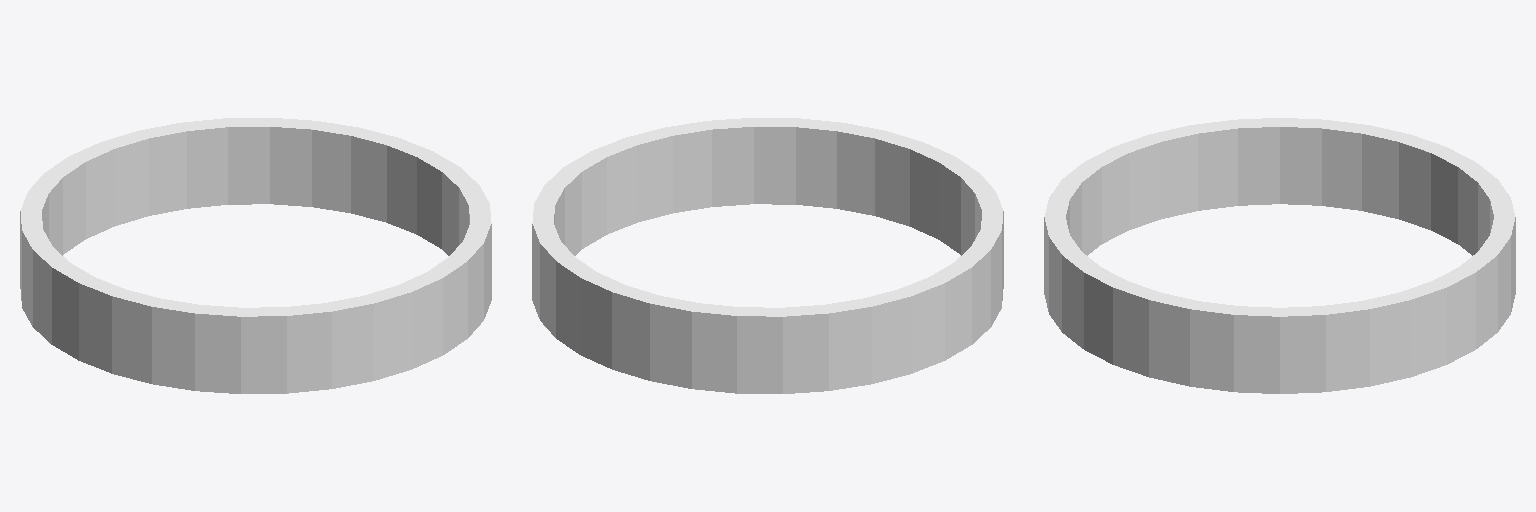
robot.urdf — circle_arena.urdf:
<?xml version="0.0" ?>
<robot name="circle_arena.urdf">
  <link concave="yes" name="baseLink">
    <inertial>
      <origin rpy="0 0 0" xyz="0 0 0"/>
       <mass value="1000"/>
       <inertia ixx="0" ixy="0" ixz="0" iyy="0" iyz="0" izz="0" />
    </inertial>
    <visual>
      <origin rpy="1.5707963 0 0" xyz="0 0 0"/>
      <geometry>
		    <mesh filename="circle_arena.obj" scale="1 1 1"/>
      </geometry>
		  <material name="white">
          <color rgba="1 1 1 1"/>
      </material>
    </visual>
    <collision concave="yes">
      <origin rpy="1.5707963 0 0" xyz="0 0 0"/>
      <geometry>
          <mesh filename="circle_arena.obj" scale="1 1 1"/>
      </geometry>
    </collision>
  </link>
</robot>

--- What the picture shows (computed from the rendered views, not written in the file) ---
3 views of the same robot in one strip: view 1: azimuth 30°, elevation 25°; view 2: azimuth 150°, elevation 25°; view 3: azimuth 270°, elevation 25° (orthographic).
Robot: circle_arena.urdf — 1 links, 0 joints (none); root link baseLink; default pose: every joint at zero.
Visible links, largest first — view 1: baseLink; view 2: baseLink; view 3: baseLink.
Link boxes in pixels (<box>): baseLink: <box>20,118,491,393</box>; baseLink: <box>532,118,1003,393</box>; baseLink: <box>1044,118,1515,393</box>.
Size in the robot's own frame: 8.79 by 8.79 by 1.6 metres.
Meshes: 1 distinct files referenced, 1 mesh visuals loaded (1 OBJ).
